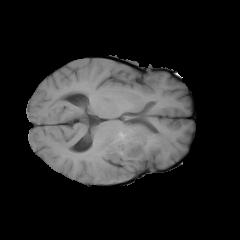glioma: (84, 112, 171, 182)
